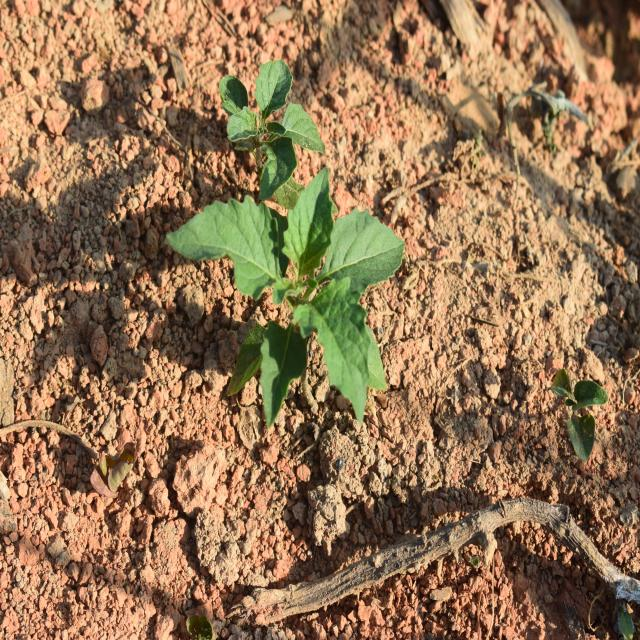Black_nightshade: (168, 168, 404, 444), (164, 0, 332, 209)
